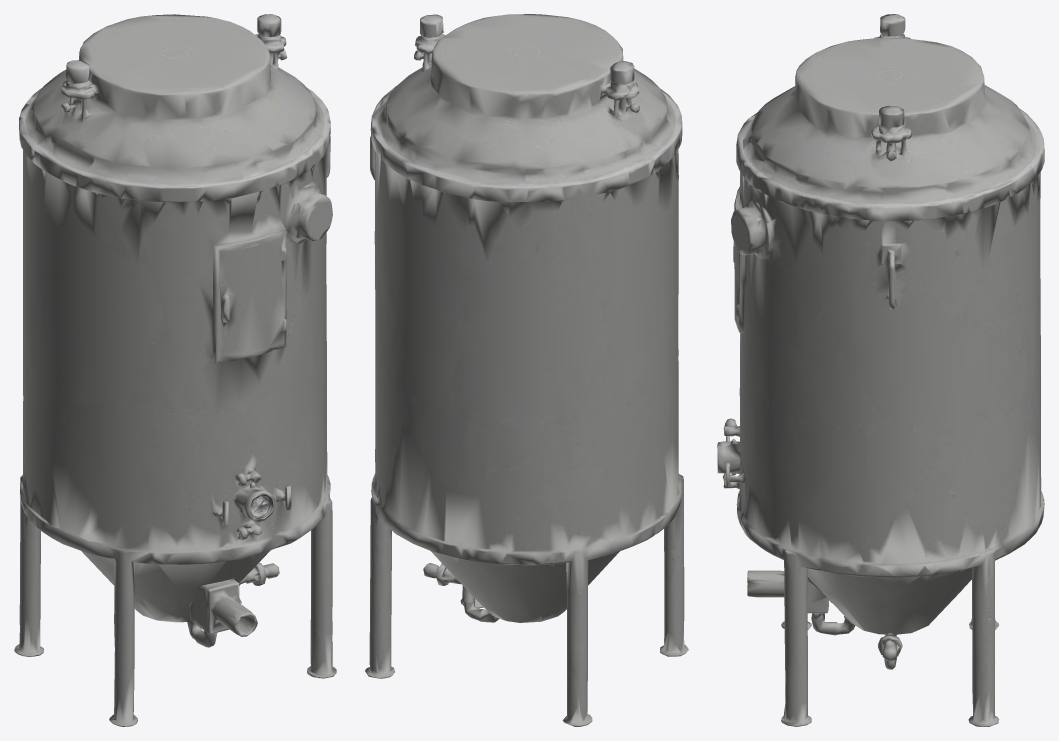
File: milk-tank-lite.glb
The picture shows the model from 3 angles, left to right: view 1: azimuth 30°, elevation 25°; view 2: azimuth 150°, elevation 25°; view 3: azimuth 270°, elevation 25°; orthographic projection.
Bounding box in the file's own units: 0.9288 × 1.9 × 0.923.
Materials: 1 (1 with a texture image).
